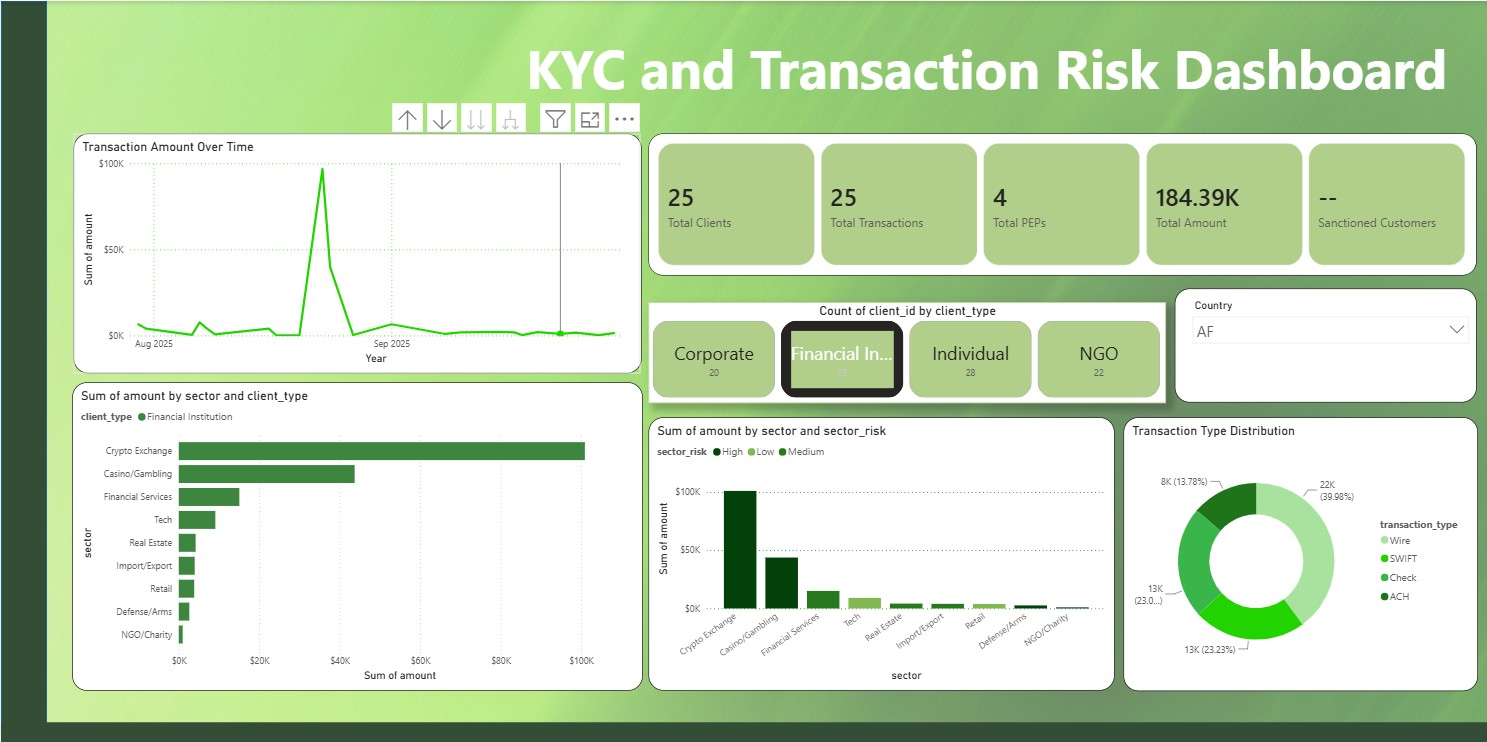

This screenshot's page, from the dashboard's own definition file:
{"tool":"powerbi","page":{"name":"Page 1","canvas":[2000,1000],"ordinal":0},"visuals":[{"type":"cardVisual","fields":{"Data":["Measure.Total Clients","Measure.Total Transactions","Measure.Total PEPs","Measure.Total Amount","Measure.Sanctioned Customers"]},"box":[867.5,177.5,1110,190],"z":0},{"type":"lineChart","title":"Transaction Amount Over Time","fields":{"Y":["Sum(transactions.amount)"],"Category":["transactions.timestamp.Variation.Date Hierarchy.Year","transactions.timestamp.Variation.Date Hierarchy.Quarter","transactions.timestamp.Variation.Date Hierarchy.Month","transactions.timestamp.Variation.Date Hierarchy.Day"]},"box":[96.7,178.3,761.7,321.7],"z":1000},{"type":"donutChart","title":"Transaction Type Distribution","fields":{"Category":["transactions.transaction_type"],"Y":["Sum(transactions.transaction_id)"]},"box":[1505,558,475,367],"z":2000},{"type":"columnChart","fields":{"Category":["clients.sector"],"Series":["clients.sector_risk"],"Y":["Sum(transactions.amount)"]},"box":[868.3,558.3,625,366.7],"z":3000},{"type":"barChart","fields":{"Category":["clients.sector"],"Y":["Sum(transactions.amount)"],"Series":["clients.client_type"]},"box":[95,511.7,765,413.3],"z":4000},{"type":"advancedSlicerVisual","fields":{"Values":["clients.client_type"],"Label":["CountNonNull(clients.client_id)"]},"box":[868.3,403.3,693.3,135],"z":5000},{"type":"slicer","fields":{"Values":["clients.country"]},"box":[1573,385,405,153],"z":6000},{"type":"textbox","box":[698.3,0,1255,178.3],"z":7000},{"type":"shape","box":[0,0,61.7,1000],"z":8000},{"type":"shape","box":[0,966.7,2000,33.3],"z":9000}]}

Visuals, with their boxes in screenshot pixels (x1, y1, x2, y2), scaled from the page's 2000x1000 canvas onto the 1487x742 screenshot:
cardVisual - Measure.Total Clients x Measure.Total Transactions: 645,132,1470,273
"Transaction Amount Over Time" lineChart: 72,132,638,371
"Transaction Type Distribution" donutChart: 1119,414,1472,686
columnChart - clients.sector x clients.sector_risk: 646,414,1110,686
barChart - clients.sector x Sum(transactions.amount): 71,380,639,686
advancedSlicerVisual - clients.client_type x CountNonNull(clients.client_id): 646,299,1161,399
slicer - clients.country: 1170,286,1471,399
textbox: 519,0,1452,132
shape: 0,0,46,741
shape: 0,717,1486,741
